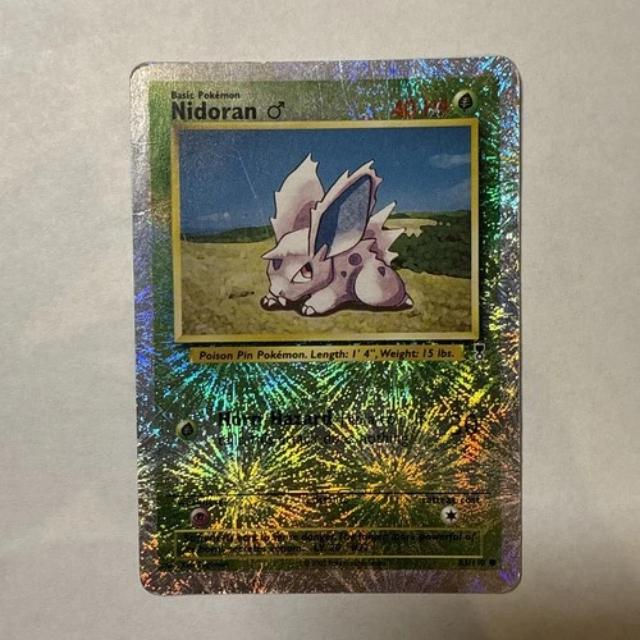Card: (120, 45, 530, 600)
Name: (164, 100, 288, 124)
